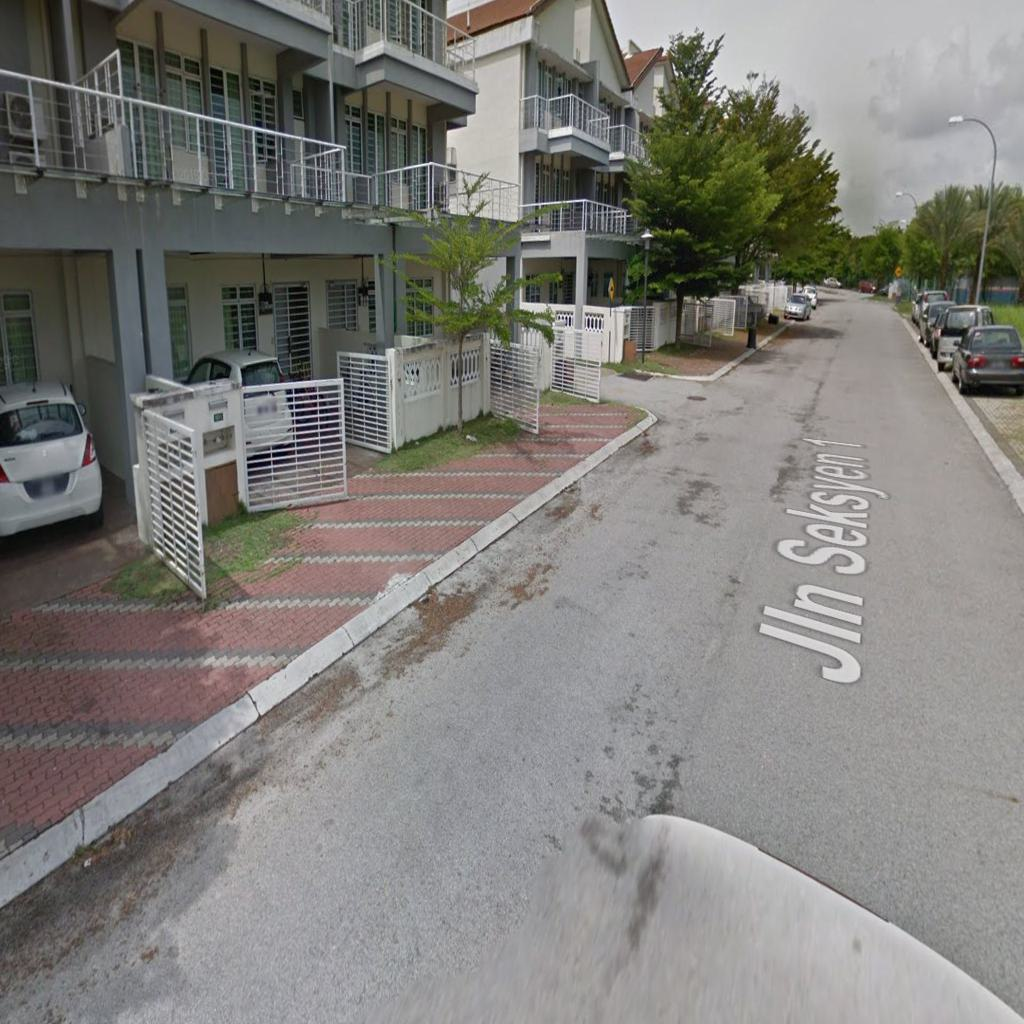Junction: (545, 327, 740, 450)
